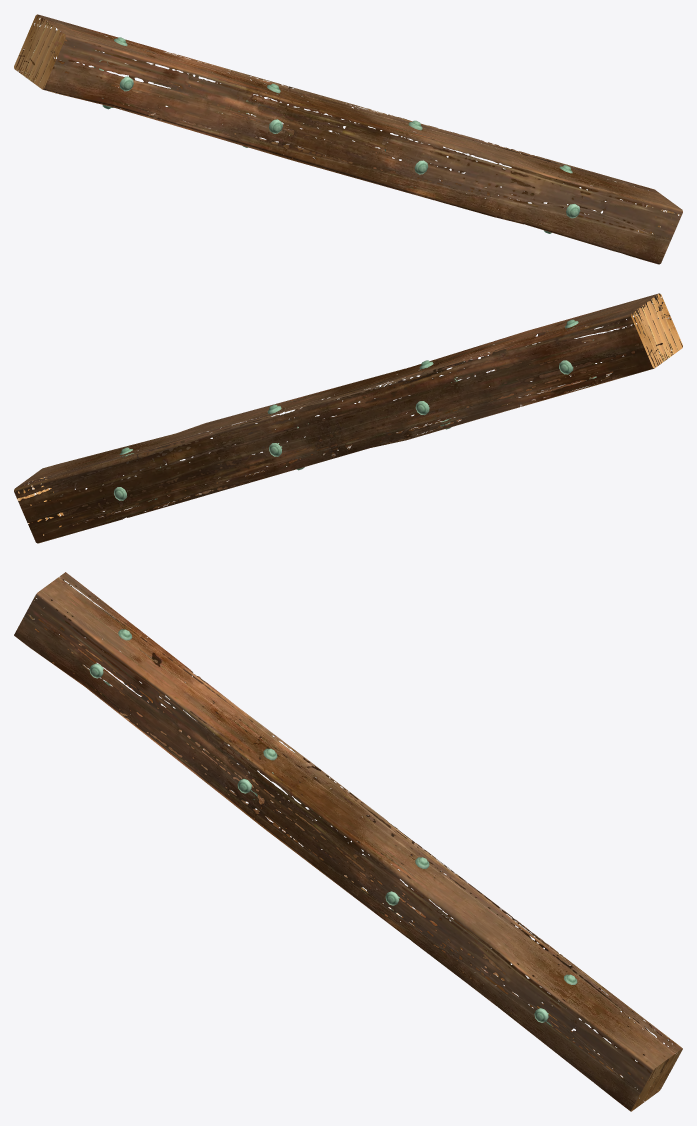
The picture shows the model from 3 angles, top to bottom: view 1: azimuth 30°, elevation 25°; view 2: azimuth 150°, elevation 25°; view 3: azimuth 330°, elevation 25°; orthographic projection.
Parts seen in each view (by area): view 1: SM_BB_T4_Beam_Thin_Large_Shallow_LOD0; view 2: SM_BB_T4_Beam_Thin_Large_Shallow_LOD0; view 3: SM_BB_T4_Beam_Thin_Large_Shallow_LOD0.
Boxes of the visible parts, left/top/right/bottom form: SM_BB_T4_Beam_Thin_Large_Shallow_LOD0: left=14, top=14, right=682, bottom=264; SM_BB_T4_Beam_Thin_Large_Shallow_LOD0: left=14, top=293, right=682, bottom=543; SM_BB_T4_Beam_Thin_Large_Shallow_LOD0: left=14, top=572, right=682, bottom=1111.
Size of the model in its own units: 3.11 by 1.74 by 0.3032.
2 materials, 2 textured.
